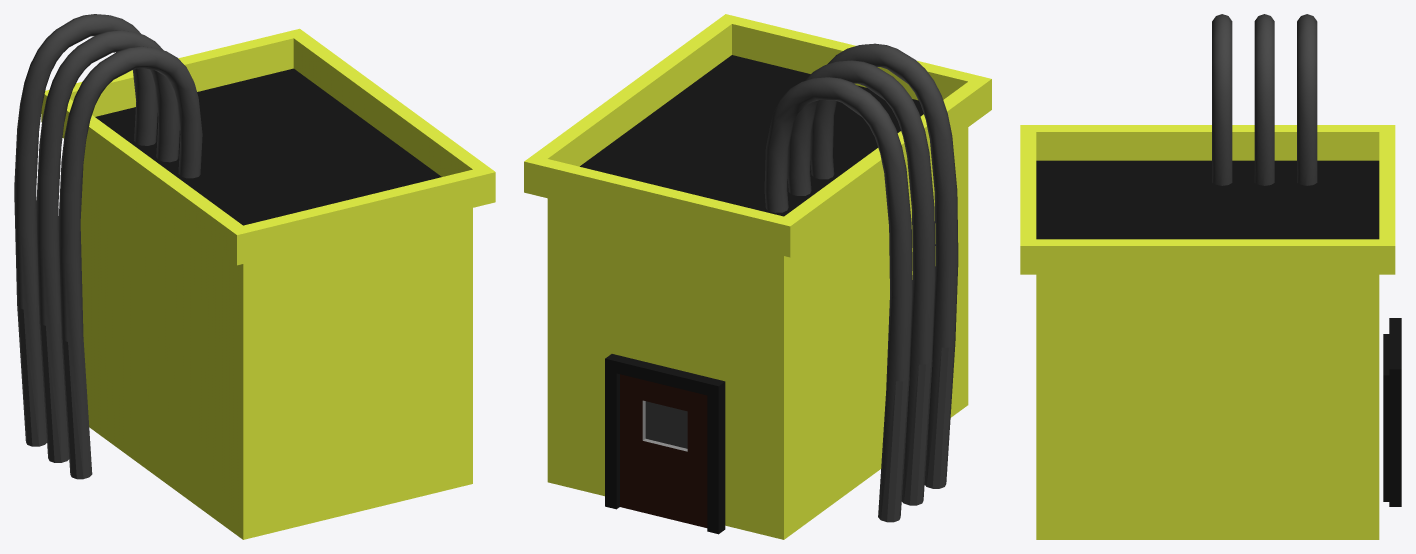
Rendered from mantenimiento.FBX.
The picture shows the model from 3 angles, left to right: view 1: azimuth 30°, elevation 25°; view 2: azimuth 150°, elevation 25°; view 3: azimuth 270°, elevation 25°; orthographic projection. The views are drawn at different scales.
Visible parts, largest first — view 1: Box002; view 2: Box002; view 3: Box002.
Boxes of the visible parts, x1,y1,x2,y2 form: Box002: (14,14,495,539); Box002: (524,14,991,539); Box002: (1020,14,1401,539).
Bounding box in the file's own units: 22.9 × 28.09 × 23.93.
